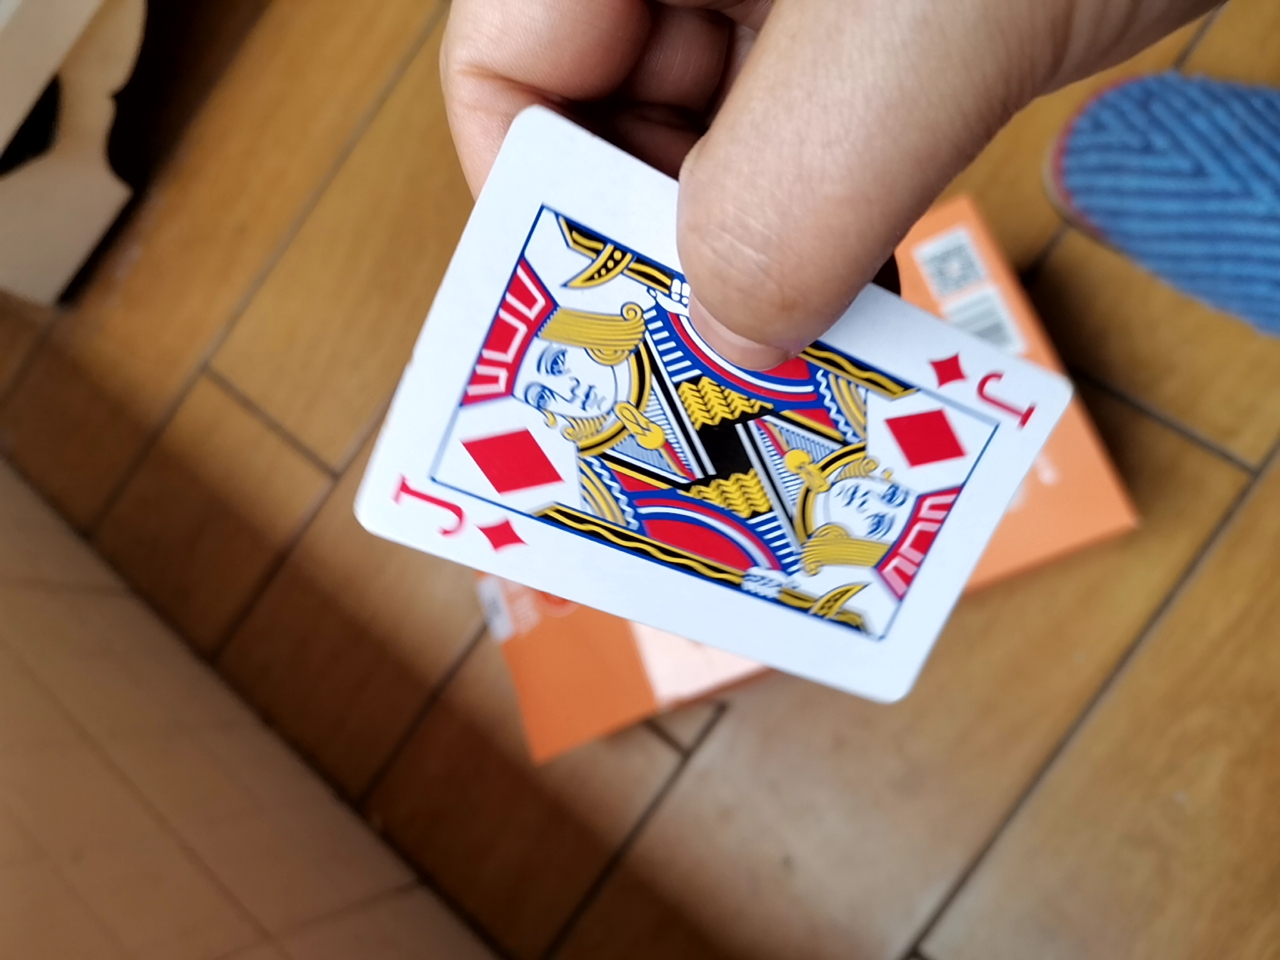fk j: (334, 128, 1082, 714)
